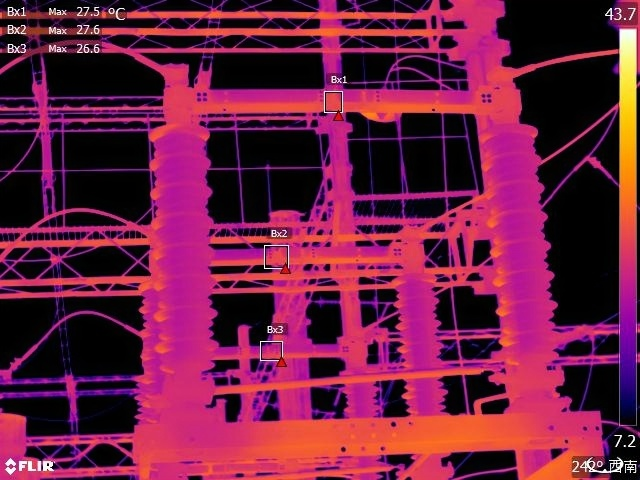insulator: (35, 118, 60, 192)
post insulator: (476, 120, 572, 351), (147, 118, 229, 382), (389, 265, 449, 414), (135, 276, 166, 397), (338, 362, 382, 424)
switch: (148, 46, 533, 134), (210, 223, 428, 277), (215, 323, 379, 373)
